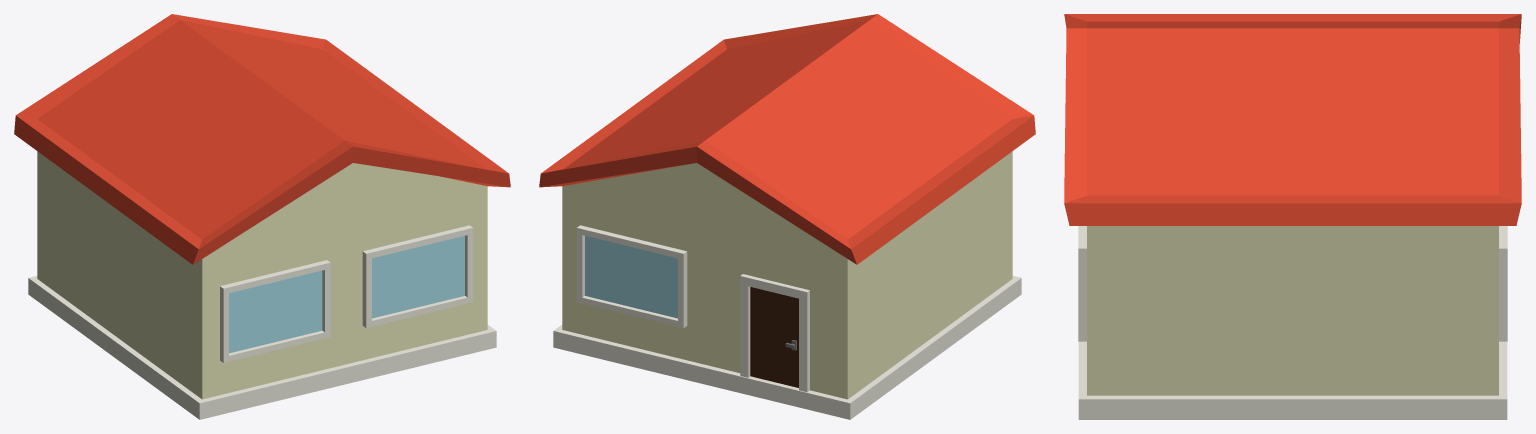
3 views of the same model, side by side, from view 1: azimuth 30°, elevation 25°; view 2: azimuth 150°, elevation 25°; view 3: azimuth 270°, elevation 25° (orthographic). The views are drawn at different scales.
Visible parts, largest first — view 1: Square-1; view 2: Square-1; view 3: Square-1.
Part boxes in pixels (bbox=[...]): Square-1: bbox=[14, 14, 510, 419]; Square-1: bbox=[539, 14, 1035, 419]; Square-1: bbox=[1064, 14, 1521, 419].
Bounding box in the file's own units: 7.41 × 5.36 × 7.39.
